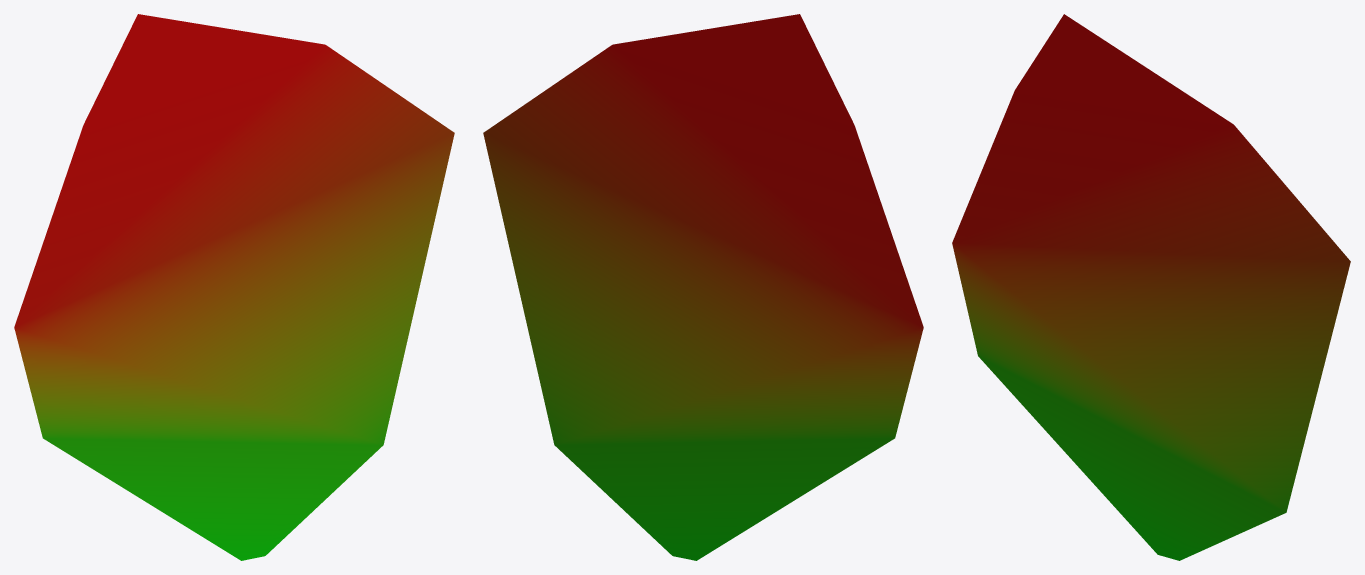
The model's file is Var1_LOD6.fbx.
The picture shows the model from 3 angles, left to right: view 1: azimuth 30°, elevation 25°; view 2: azimuth 150°, elevation 25°; view 3: azimuth 330°, elevation 25°; orthographic projection. The views are drawn at different scales.
Parts seen in each view (by area): view 1: _1xpx_Var1_LOD6; view 2: _1xpx_Var1_LOD6; view 3: _1xpx_Var1_LOD6.
Part boxes in pixels (x1,y1,x2,y2): _1xpx_Var1_LOD6: (14, 14, 454, 560); _1xpx_Var1_LOD6: (483, 14, 923, 560); _1xpx_Var1_LOD6: (952, 14, 1350, 560).
Bounding box in the file's own units: 101 × 126 × 9.51e-06.
